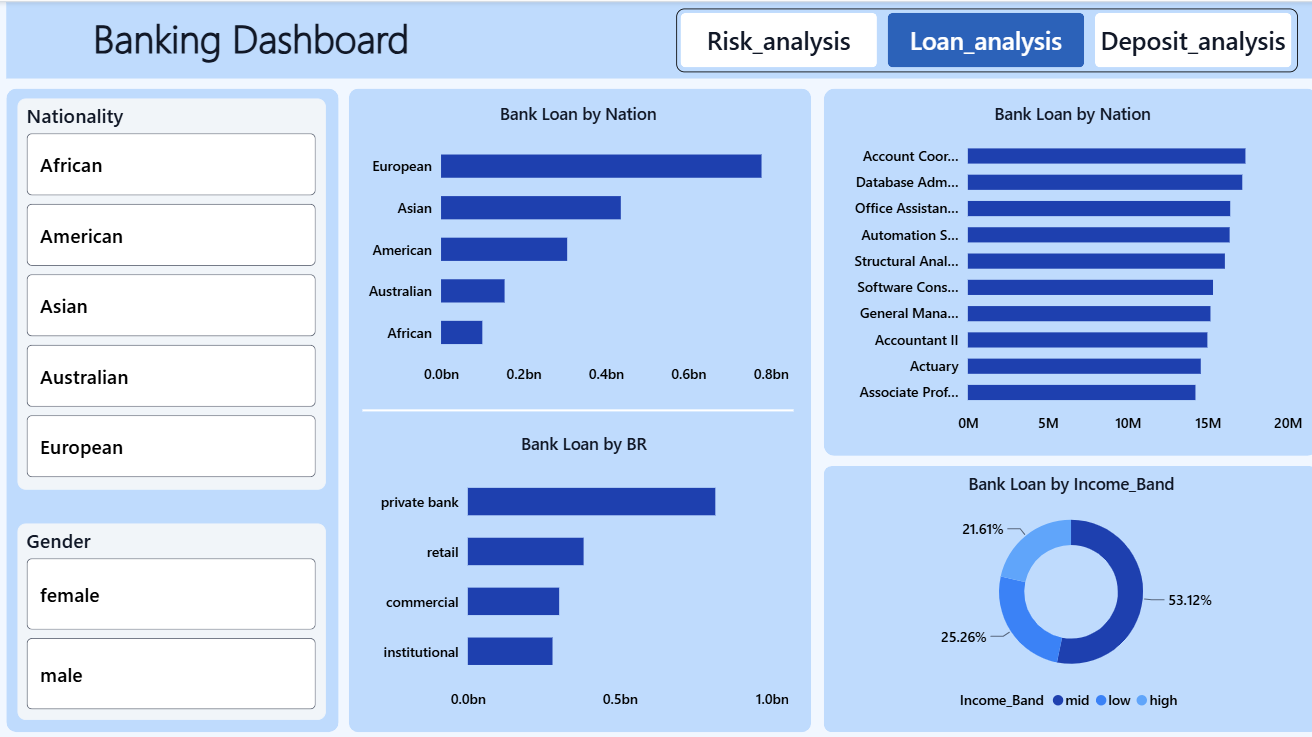

Layout of this report page (visuals, bound fields, positions):
{"tool":"powerbi","page":{"name":"Loan_analysis","canvas":[1280,720],"ordinal":1},"visuals":[{"type":"shape","box":[6,1.2,1266.8,73.6],"z":0},{"type":"textbox","box":[12.1,7.2,460.9,61.5],"z":1000},{"type":"pageNavigator","box":[652.7,7.2,599.6,61.5],"z":2000},{"type":"shape","box":[795,448.8,477.8,257],"z":3000},{"type":"shape","box":[336.6,84.5,446.4,621.3],"z":4000},{"type":"shape","box":[795,84.5,477.8,354.7],"z":5000},{"type":"shape","box":[6,84.5,320.9,621.3],"z":6000},{"type":"clusteredBarChart","title":"Bank Loan by BR","fields":{"Category":["Banking_new.brid"],"Y":["Sum(Banking_new.bank_loans)"]},"box":[360.7,416.2,405.4,277.5],"z":7000},{"type":"donutChart","title":"Bank Loan by Income_Band","fields":{"Category":["Banking_new.income_band"],"Y":["Sum(Banking_new.bank_loans)"]},"box":[807,454.8,453.6,238.9],"z":8000},{"type":"clusteredBarChart","title":"Bank Loan by Nation","fields":{"Y":["Sum(Banking_new.bank_loans)"],"Category":["Banking_new.nationality"]},"box":[349.9,97.7,416.2,282.3],"z":9000},{"type":"shape","box":[349.9,369.2,416.2,51.9],"z":10000},{"type":"clusteredBarChart","title":"Bank Loan by Nation","fields":{"Y":["Sum(Banking_new.bank_loans)"],"Category":["Banking_new.occupation"]},"box":[808.3,97.7,453.6,329.4],"z":11000},{"type":"advancedSlicerVisual","title":"Nationality","fields":{"Values":["Banking_new.nationality"]},"box":[16.9,94.1,298,377.6],"z":12000},{"type":"advancedSlicerVisual","title":"Gender","fields":{"Values":["Banking_new.genderid"]},"box":[16.9,504.3,298,189.4],"z":13000}]}

Visuals, with their boxes in screenshot pixels (x1, y1, x2, y2), scaled from the page's 1280x720 canvas onto the 1312x737 screenshot:
shape: box=[6, 1, 1305, 77]
textbox: box=[12, 7, 485, 70]
pageNavigator: box=[669, 7, 1284, 70]
shape: box=[815, 459, 1305, 722]
shape: box=[345, 86, 803, 722]
shape: box=[815, 86, 1305, 450]
shape: box=[6, 86, 335, 722]
"Bank Loan by BR" clusteredBarChart: box=[370, 426, 785, 710]
"Bank Loan by Income_Band" donutChart: box=[827, 466, 1292, 710]
"Bank Loan by Nation" clusteredBarChart: box=[359, 100, 785, 389]
shape: box=[359, 378, 785, 431]
"Bank Loan by Nation" clusteredBarChart: box=[829, 100, 1293, 437]
"Nationality" advancedSlicerVisual: box=[17, 96, 323, 483]
"Gender" advancedSlicerVisual: box=[17, 516, 323, 710]
